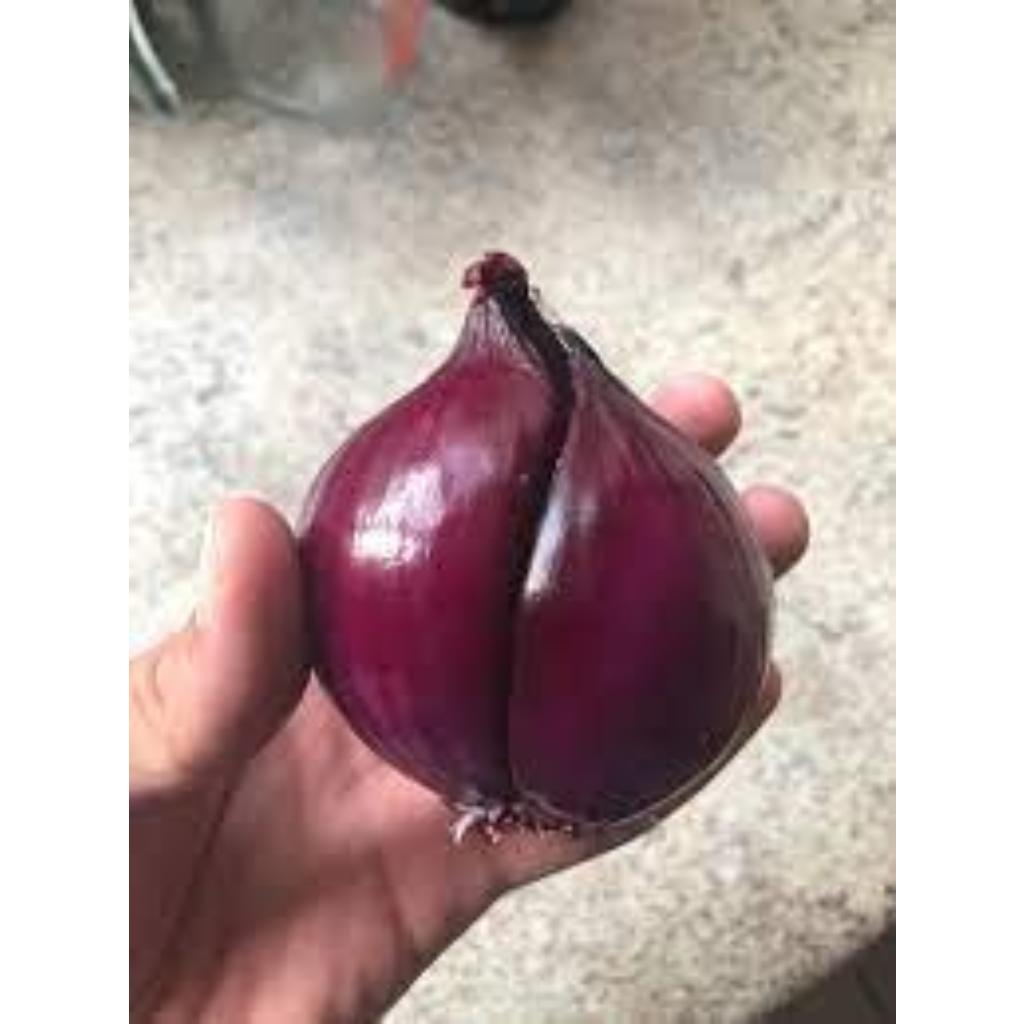Onion: (310, 253, 772, 826)
